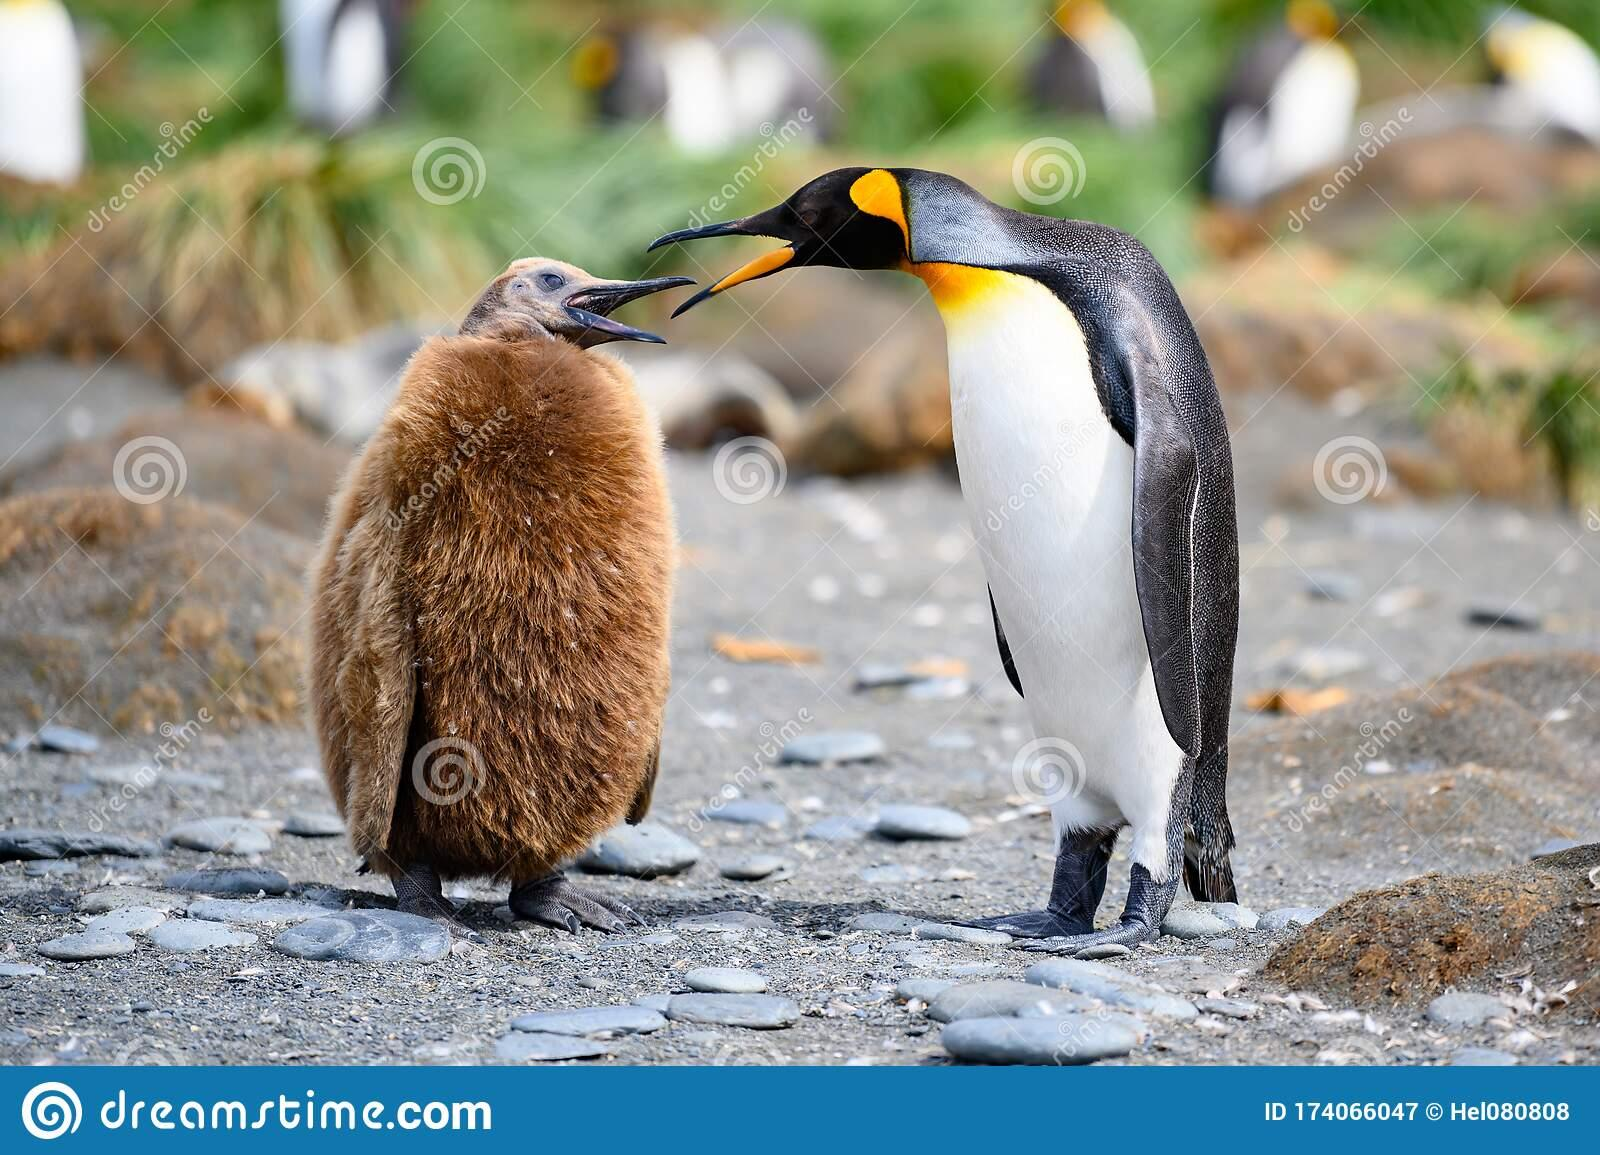king: (609, 128, 1327, 974)
